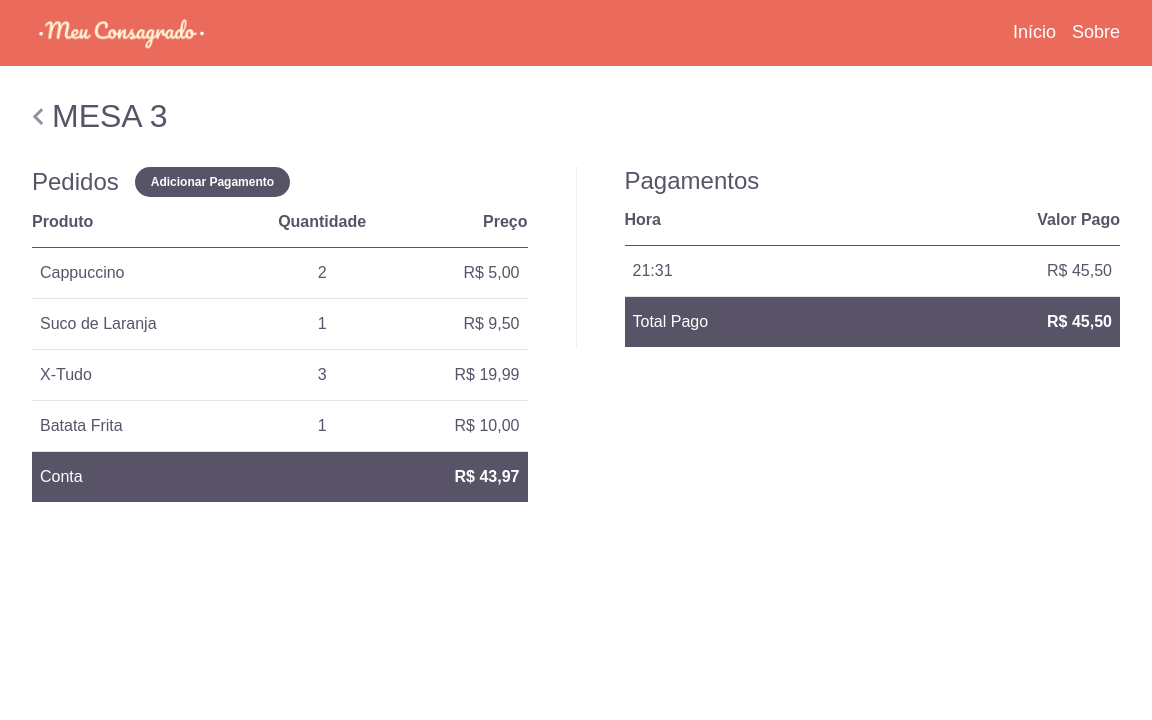
it: Table Tests › should not be able to add a payment greater then the total
Step 1. Click the button with test id "add-payment-button" → x=213, y=182, box x1=135 y1=167 x2=290 y2=197
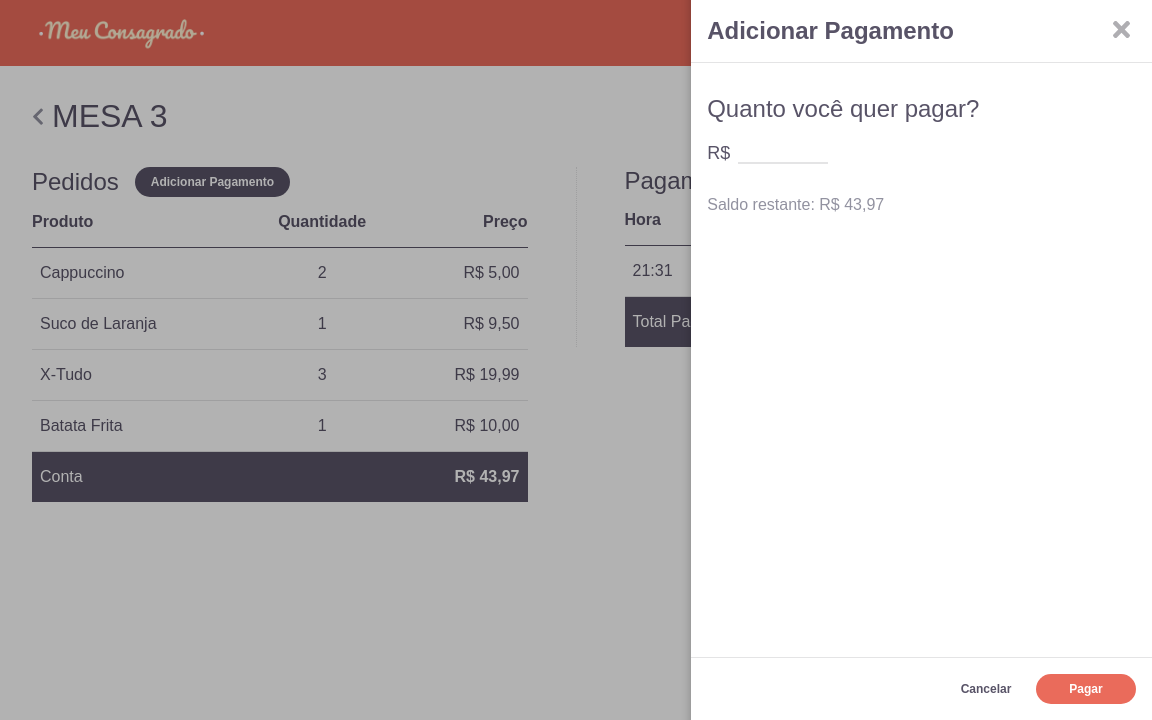
Now the element with test id "payment-modal" is shown, box x1=691 y1=0 x2=1151 y2=719
Step 2. Type "1000" into the number field with test id "payment-input" → x=783, y=148, box x1=738 y1=131 x2=828 y2=164
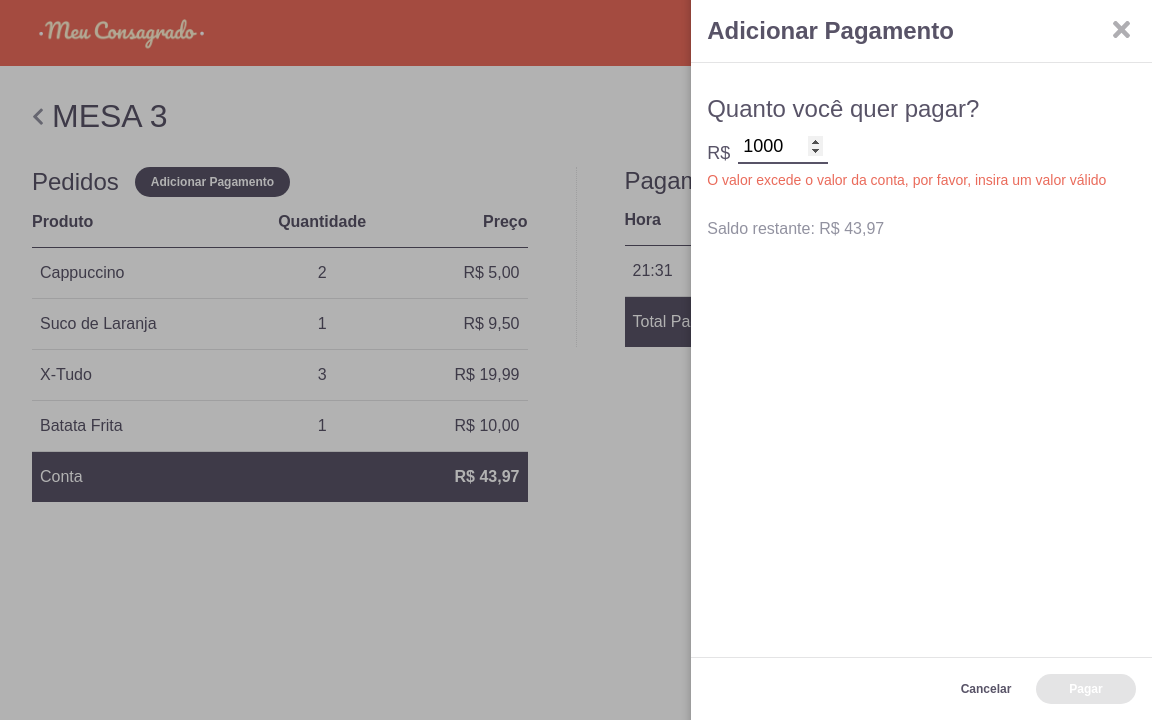
Now the text with test id "error-message" is shown, box x1=707 y1=172 x2=1136 y2=188
